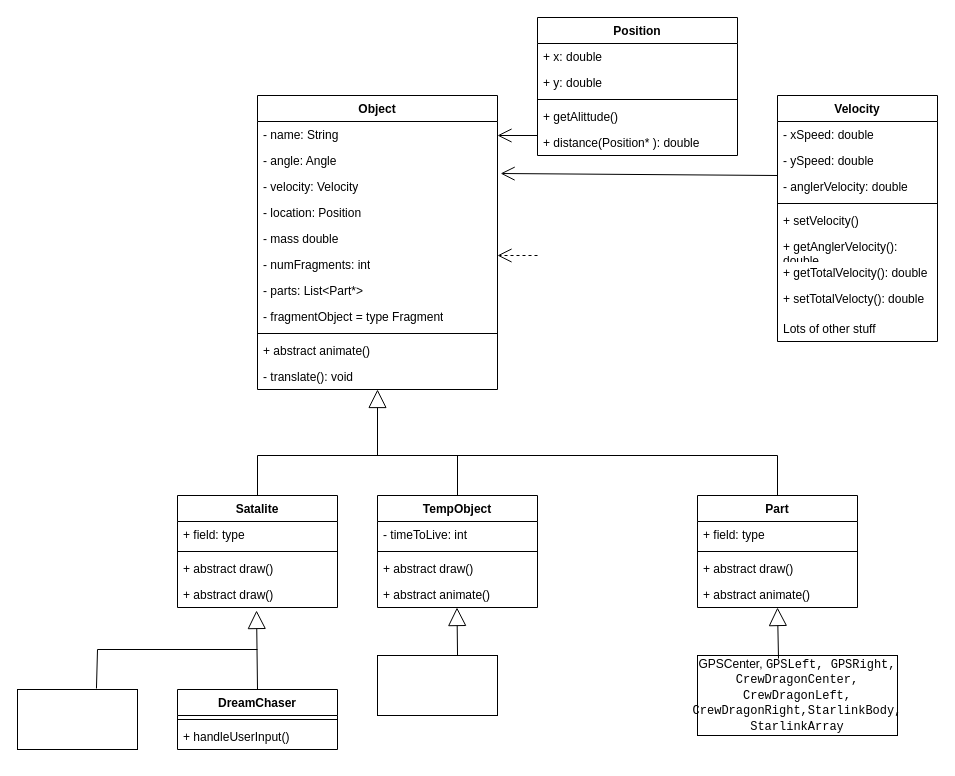
Some shapes in this 955 by 776 pixel diagram are drawn without their labels. The shapes that lost their labels are listed below. From the top down, each one's centre as x and y in pixels, then its label:
At point 437,685: "Bullet, Fragment".
At point 77,719: "Sputnik, GPS, Hubble, Dragon, Starlink".
